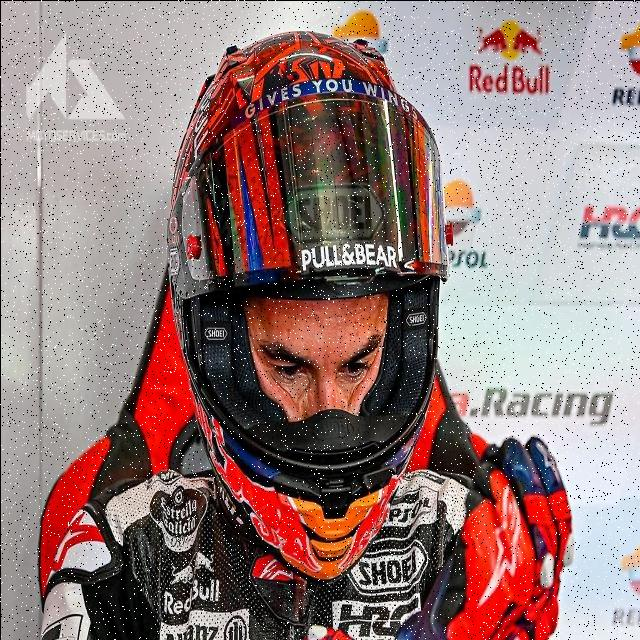Helm: (163, 24, 453, 582)
